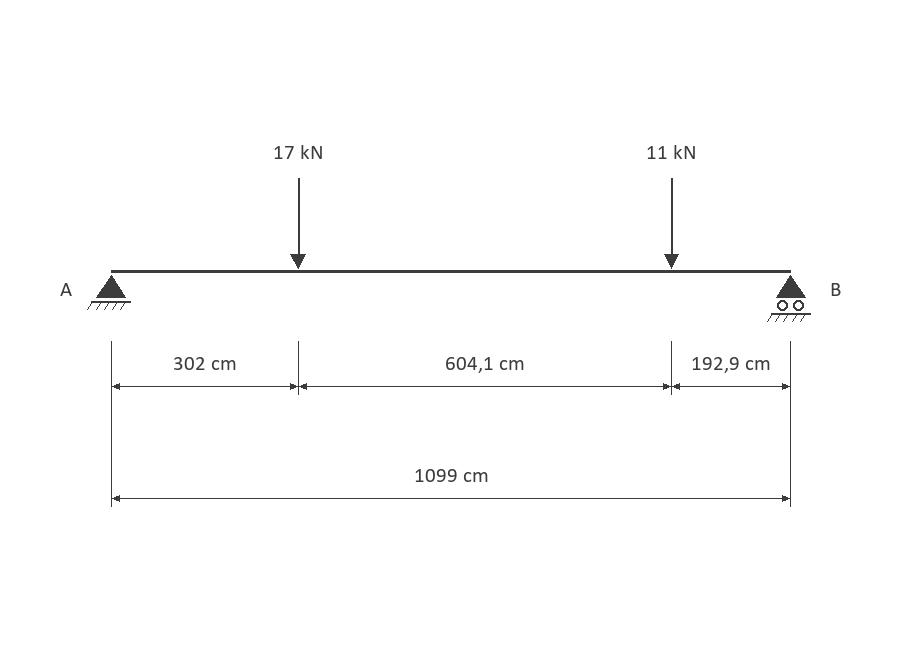pin_support: (87, 275, 131, 310)
point_load: (290, 178, 306, 269), (664, 178, 679, 269)
roller_support: (767, 275, 811, 322)
